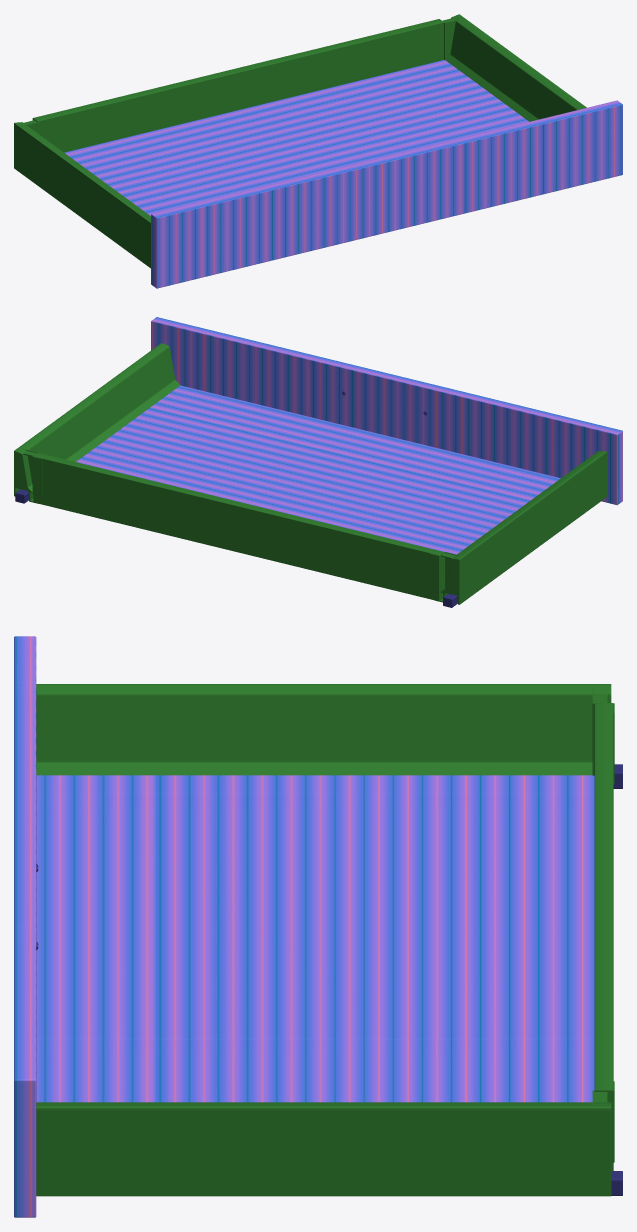
File: SM_Kitchen_11_Base_Drawer_01.fbx
3 renders of one model, top to bottom at view 1: azimuth 30°, elevation 25°; view 2: azimuth 150°, elevation 25°; view 3: azimuth 270°, elevation 25°, orthographic. The views are drawn at different scales.
Visible parts, largest first — view 1: SM_Kitchen_11_Base_Drawer_01; view 2: SM_Kitchen_11_Base_Drawer_01; view 3: SM_Kitchen_11_Base_Drawer_01.
Part boxes in pixels (x1,y1,x2,y2): SM_Kitchen_11_Base_Drawer_01: [14, 14, 622, 288]; SM_Kitchen_11_Base_Drawer_01: [14, 317, 622, 607]; SM_Kitchen_11_Base_Drawer_01: [14, 636, 622, 1217].
Bounding box in the file's own units: 89.69 × 13 × 51.99.
Materials: 4 (2 with a texture image).
